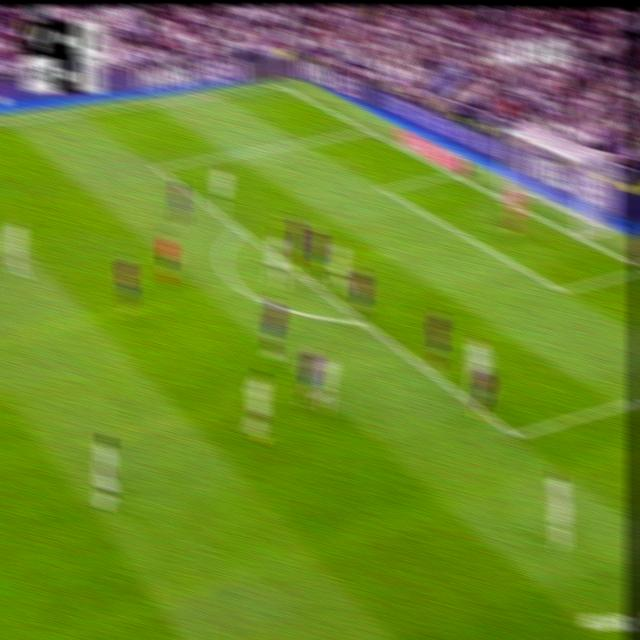bigarea_bottom_inner: (507, 422, 523, 448)
bigarea_top_inner: (152, 159, 164, 175)
bigarea_top_outter: (360, 122, 373, 135)
corner: (274, 79, 288, 89)
smallarea_top_inner: (378, 182, 390, 195)
top_arc_area_intersection: (232, 219, 248, 238)
